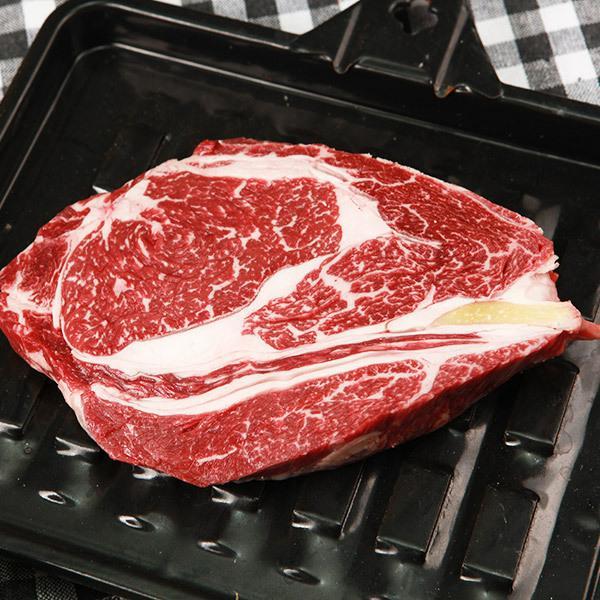beef: (94, 188, 398, 419)
